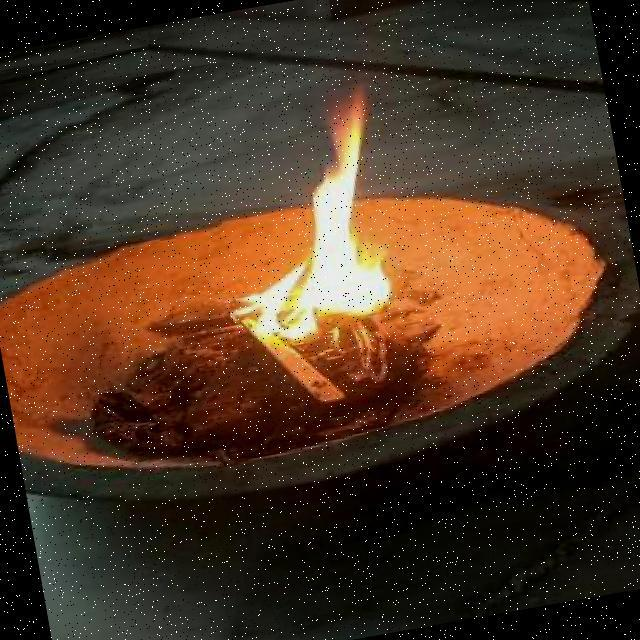Fire: (191, 77, 441, 350)
